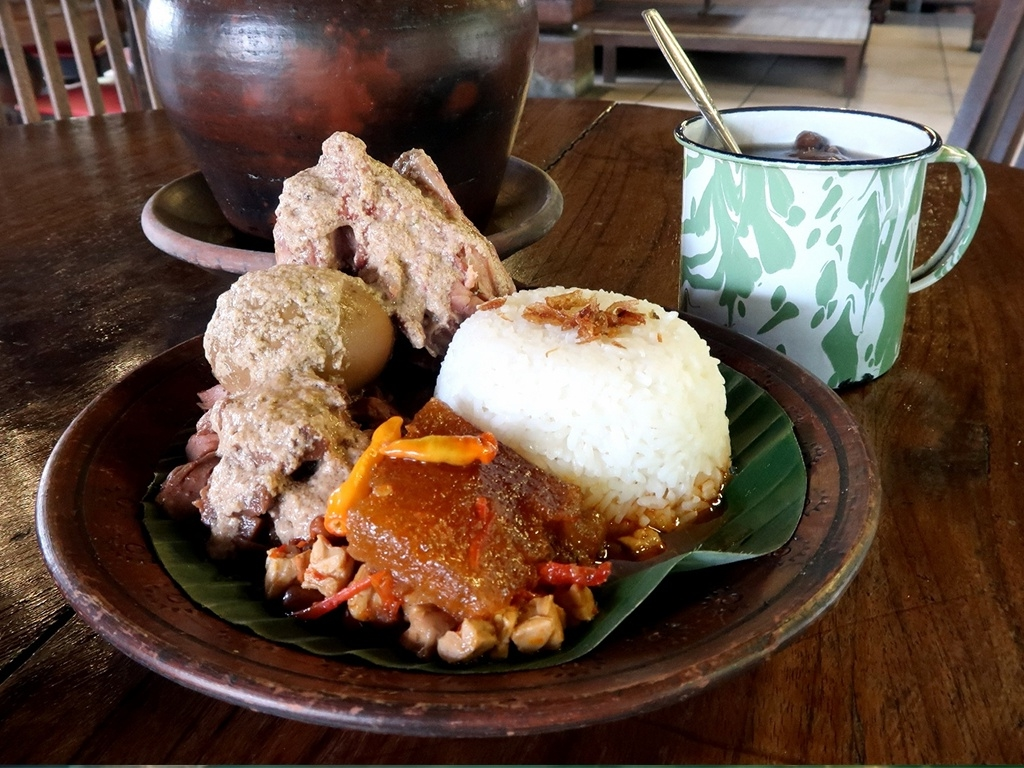gudeg: (156, 285, 729, 665)
